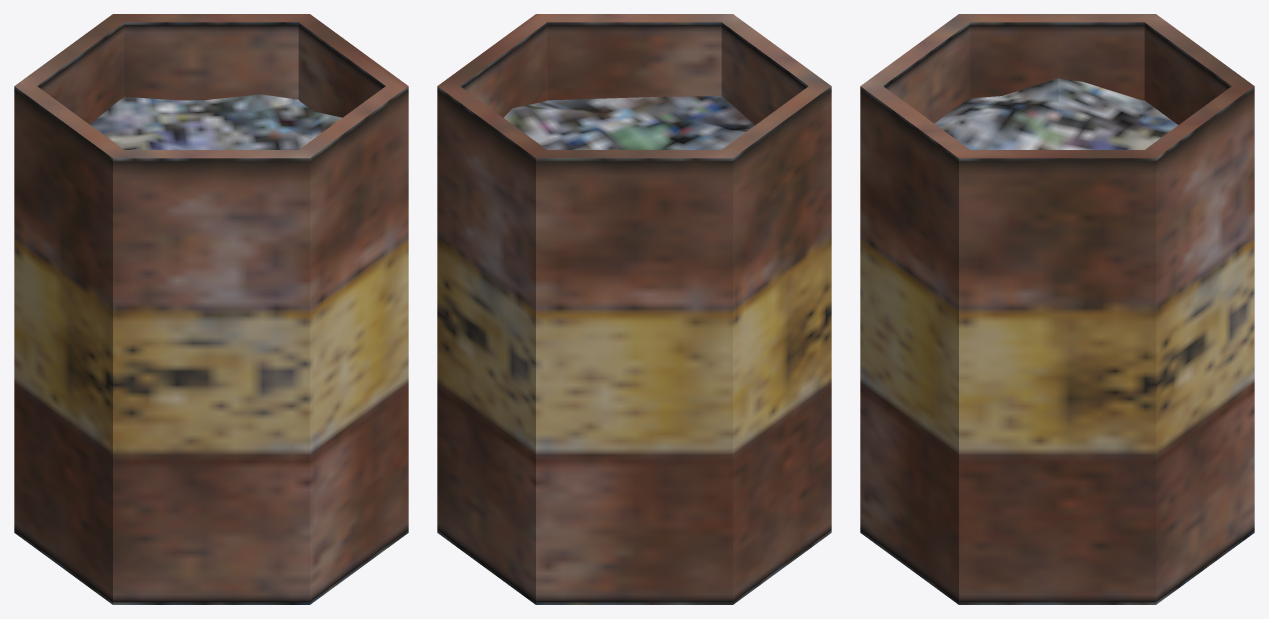
The model's file is Barrel02.fbx.
3 renders of one model, left to right at view 1: azimuth 30°, elevation 25°; view 2: azimuth 150°, elevation 25°; view 3: azimuth 270°, elevation 25°, orthographic.
Visible parts, largest first — view 1: Barrel02, Barrel02.Trash; view 2: Barrel02, Barrel02.Trash; view 3: Barrel02, Barrel02.Trash.
Part boxes in pixels (<box>): Barrel02: <box>14,14,408,604</box>; Barrel02.Trash: <box>90,94,342,149</box>; Barrel02: <box>437,14,831,604</box>; Barrel02.Trash: <box>504,96,755,149</box>; Barrel02: <box>860,14,1254,604</box>; Barrel02.Trash: <box>934,78,1177,149</box>.
Bounding box in the file's own units: 86.6 × 125 × 100.
